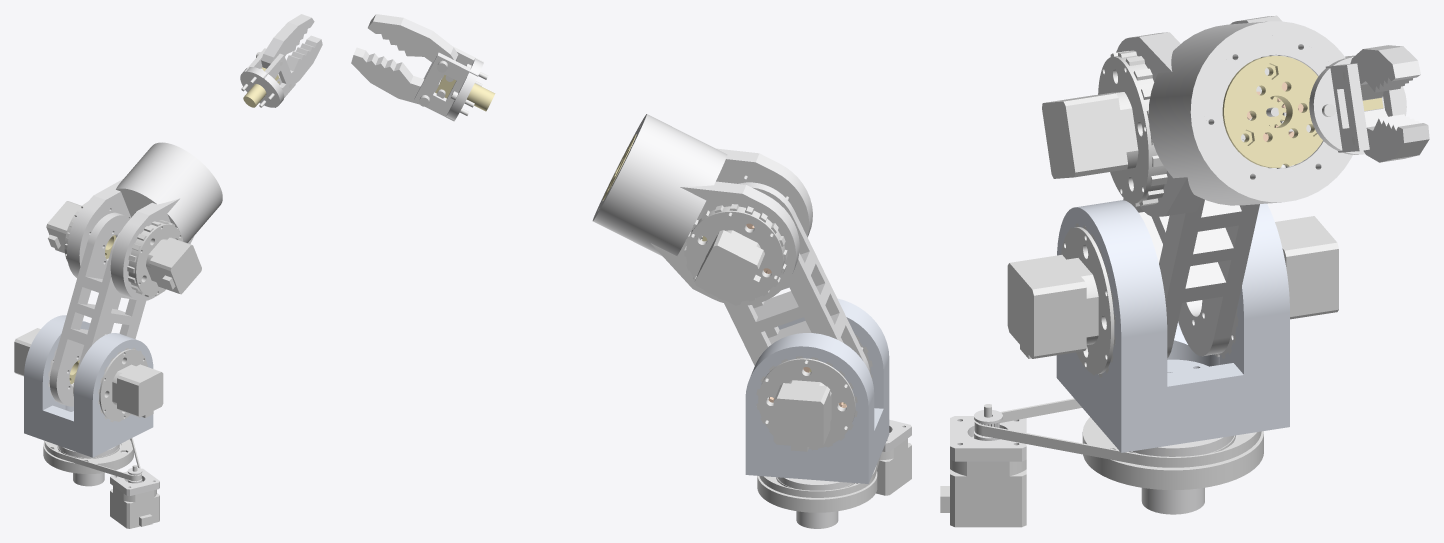
The model's file is RB_Brazo_Robotico_Completo2.glb.
3 views of the same model, side by side, from view 1: azimuth 30°, elevation 25°; view 2: azimuth 150°, elevation 25°; view 3: azimuth 270°, elevation 25° (orthographic). The views are drawn at different scales.
Visible parts, largest first — view 1: RB_Antebrazo_Eje3_4-1, RB_Torreta_Hombro_Eje1_2-1, RB_Eslabon_Brazo_Eje2_3-1, RB_Motor_NEMA17-7, RB_Motor_NEMA17-8, RB_Corona_Planetaria_Z48-6, RB_Motor_NEMA17-1, RB_Garra_Base_Pinza-1, RB_Corona_Planetaria_Z48-5, Pieza7-1, RB_Garra_Mordaza_Pinza-2, RB_Garra_Mordaza_Pinza-1 (+6 smaller); view 2: RB_Antebrazo_Eje3_4-1, RB_Torreta_Hombro_Eje1_2-1, RB_Eslabon_Brazo_Eje2_3-1, RB_Corona_Planetaria_Z48-2, RB_Corona_Planetaria_Z48-1, RB_Motor_NEMA17-2, RB_Motor_NEMA17-3, RB_Garra_Base_Pinza-1, RB_Garra_Mordaza_Pinza-2, RB_Garra_Mordaza_Pinza-1, Pieza7-1, RB_Motor_NEMA17-1 (+4 smaller); view 3: RB_Torreta_Hombro_Eje1_2-1, RB_Antebrazo_Eje3_4-1, RB_Eslabon_Brazo_Eje2_3-1, RB_Motor_NEMA17-7, RB_PortaPlanetas-3, RB_Motor_NEMA17-8, RB_Tapa_Reductor-3, RB_Motor_NEMA17-1, RB_Corona_Planetaria_Z48-6, RB_Motor_NEMA17-2, RB_Garra_Base_Pinza-1, Pieza7-1 (+6 smaller).
Boxes of the visible parts, x1,y1,x2,y2 form: RB_Antebrazo_Eje3_4-1: (67, 142, 222, 301); RB_Torreta_Hombro_Eje1_2-1: (24, 315, 153, 457); RB_Eslabon_Brazo_Eje2_3-1: (49, 212, 146, 406); RB_Motor_NEMA17-7: (112, 364, 163, 417); RB_Motor_NEMA17-8: (146, 237, 201, 294); RB_Corona_Planetaria_Z48-6: (127, 220, 183, 297); RB_Motor_NEMA17-1: (110, 465, 159, 528); RB_Garra_Base_Pinza-1: (240, 48, 295, 107); RB_Corona_Planetaria_Z48-5: (98, 347, 147, 422); Pieza7-1: (43, 439, 133, 473); RB_Garra_Mordaza_Pinza-2: (261, 14, 314, 78); RB_Garra_Mordaza_Pinza-1: (276, 35, 322, 84); RB_Antebrazo_Eje3_4-1: (592, 114, 812, 305); RB_Torreta_Hombro_Eje1_2-1: (745, 298, 889, 483); RB_Eslabon_Brazo_Eje2_3-1: (724, 182, 869, 372); RB_Corona_Planetaria_Z48-2: (684, 204, 787, 301); RB_Corona_Planetaria_Z48-1: (756, 356, 857, 450); RB_Motor_NEMA17-2: (773, 380, 831, 451); RB_Motor_NEMA17-3: (694, 230, 764, 305); RB_Garra_Base_Pinza-1: (413, 46, 483, 121); RB_Garra_Mordaza_Pinza-2: (368, 14, 458, 78); RB_Garra_Mordaza_Pinza-1: (351, 47, 441, 104); Pieza7-1: (757, 471, 877, 512); RB_Motor_NEMA17-1: (876, 438, 911, 495); RB_Torreta_Hombro_Eje1_2-1: (1056, 200, 1289, 452); RB_Antebrazo_Eje3_4-1: (1116, 15, 1352, 216); RB_Eslabon_Brazo_Eje2_3-1: (1123, 198, 1259, 358); RB_Motor_NEMA17-7: (1007, 255, 1098, 358); RB_PortaPlanetas-3: (1222, 56, 1322, 167); RB_Motor_NEMA17-8: (1042, 92, 1138, 178); RB_Tapa_Reductor-3: (1203, 34, 1338, 189); RB_Motor_NEMA17-1: (940, 404, 1026, 527); RB_Corona_Planetaria_Z48-6: (1098, 50, 1167, 206); RB_Motor_NEMA17-2: (1275, 216, 1338, 319); RB_Garra_Base_Pinza-1: (1309, 57, 1406, 154); Pieza7-1: (1082, 417, 1263, 489).
Size of the model in its own units: 0.4371 by 0.4367 by 0.2698.
